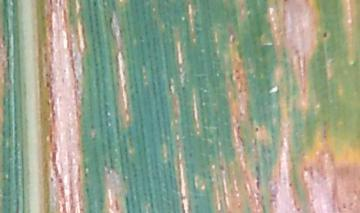tarspot: (321, 30, 332, 40), (218, 163, 226, 173), (253, 126, 261, 135), (48, 175, 56, 183), (187, 151, 195, 159), (88, 122, 96, 130), (288, 181, 295, 187), (294, 206, 301, 212)
